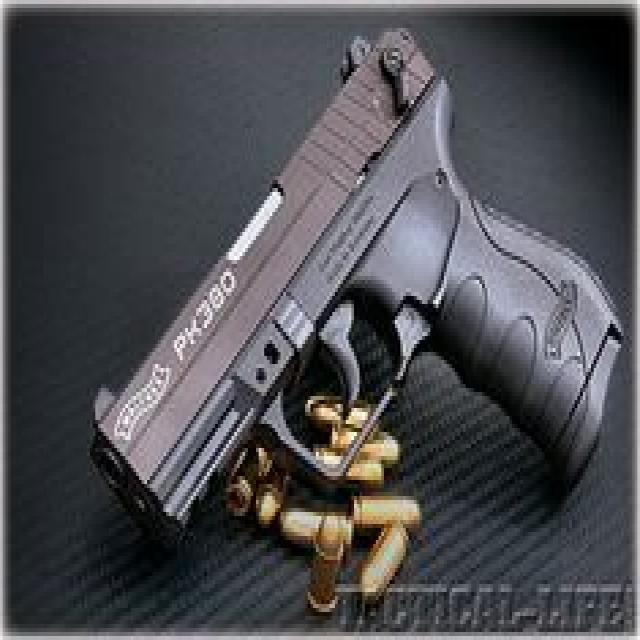semi automatic: (78, 28, 625, 556)
